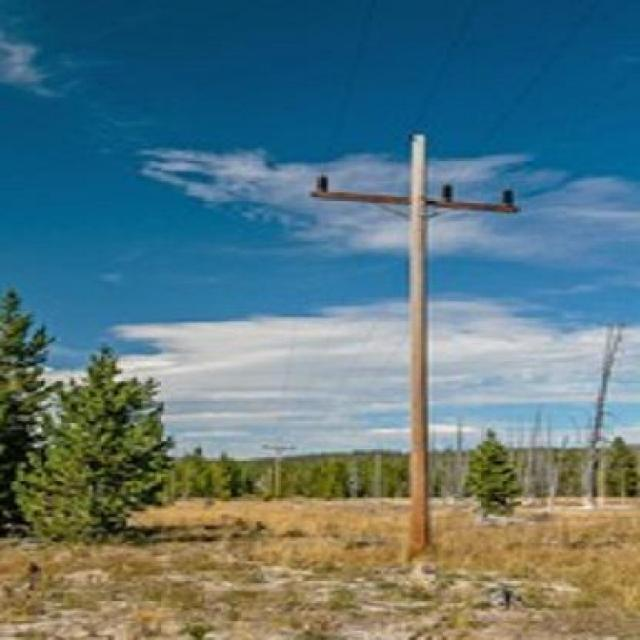pole: (312, 123, 525, 546)
